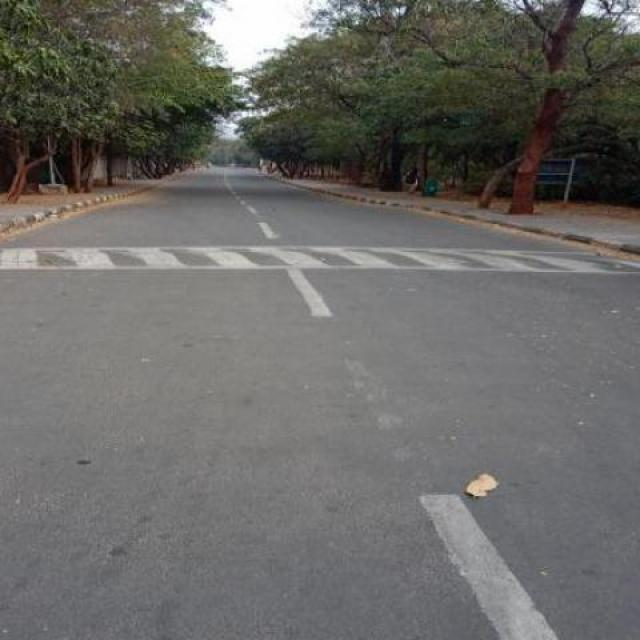Speed Bump: (0, 244, 639, 278)
